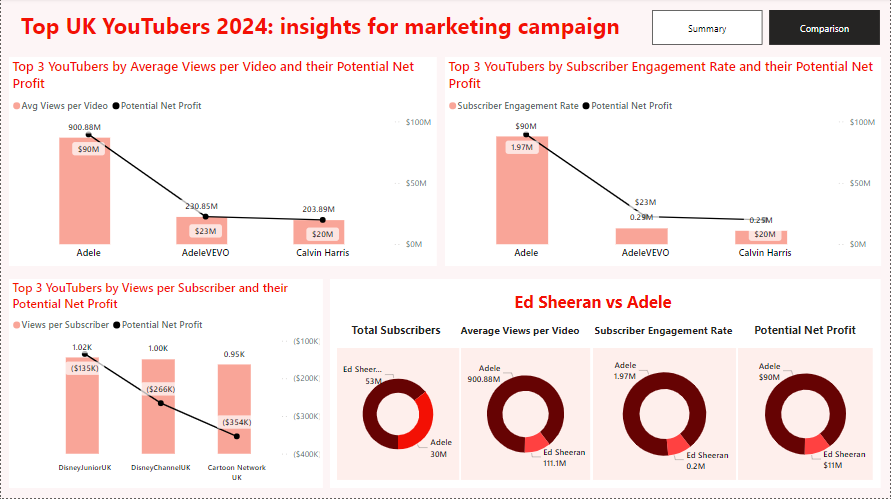

What the dashboard file says about the page in this screenshot:
{"tool":"powerbi","page":{"name":"Comparison","canvas":[1280,720],"ordinal":1},"visuals":[{"type":"textbox","box":[0,11.5,920.2,64.8],"z":0},{"type":"shape","box":[473.8,404.6,793.4,301],"z":1000},{"type":"lineClusteredColumnComboChart","title":"Top 3 YouTubers by Average Views per Video and their Potential Net Profit","fields":{"Category":["view_Top_100_UK_YouTubers.Channel_Name"],"Y2":["view_Top_100_UK_YouTubers.Potential Net Profit"],"Y":["Potential Net Profit.Avg Views per Video"]},"box":[11.5,85,616.3,301],"z":2000},{"type":"lineClusteredColumnComboChart","title":"Top 3 YouTubers by Subscriber Engagement Rate and their Potential Net Profit ","fields":{"Category":["view_Top_100_UK_YouTubers.Channel_Name"],"Y2":["view_Top_100_UK_YouTubers.Potential Net Profit"],"Y":["view_Top_100_UK_YouTubers.Subscriber Engagement Rate"]},"box":[639.4,85,627.8,301],"z":3000},{"type":"lineClusteredColumnComboChart","title":"Top 3 YouTubers by Views per Subscriber and their Potential Net Profit ","fields":{"Category":["view_Top_100_UK_YouTubers.Channel_Name"],"Y2":["view_Top_100_UK_YouTubers.Potential Net Profit"],"Y":["view_Top_100_UK_YouTubers.Views per Subscriber"]},"box":[11.5,404.6,452.2,301],"z":4000},{"type":"donutChart","title":"Average Views per Video","fields":{"Category":["view_Top_100_UK_YouTubers.Channel_Name"],"Y":["Potential Net Profit.Avg Views per Video"]},"box":[662.9,504,185.8,190.1],"z":5000},{"type":"donutChart","title":"Subscriber Engagement Rate","fields":{"Category":["view_Top_100_UK_YouTubers.Channel_Name"],"Y":["view_Top_100_UK_YouTubers.Subscriber Engagement Rate"]},"box":[852,504,205.9,190.1],"z":6000},{"type":"donutChart","title":"Total Subscribers","fields":{"Category":["view_Top_100_UK_YouTubers.Channel_Name"],"Y":["view_Top_100_UK_YouTubers.Potential Net Profit"]},"box":[1061.3,504,194.4,190.1],"z":7000},{"type":"textbox","box":[725.8,414.7,253.4,47.5],"z":8000},{"type":"donutChart","title":"Total Subscribers","fields":{"Category":["view_Top_100_UK_YouTubers.Channel_Name"],"Y":["view_Top_100_UK_YouTubers.Total_Subscribers"]},"box":[483.8,504,175.7,190.1],"z":9000},{"type":"textbox","box":[491,462.2,155.5,33.1],"z":10000},{"type":"textbox","box":[656.6,462.2,193,33.1],"z":11000},{"type":"textbox","box":[849.6,462.2,236.2,36],"z":12000},{"type":"textbox","box":[1062.7,462.2,190.1,33.1],"z":13000},{"type":"pageNavigator","box":[937.4,17.3,329.8,50.4],"z":14000}]}

Visuals, with their boxes in screenshot pixels (x1, y1, x2, y2), scaled from the page's 1280x720 canvas onto the 891x499 screenshot:
textbox: 0/8/641/53
shape: 330/280/882/489
"Top 3 YouTubers by Average Views per Video and their Potential Net Profit" lineClusteredColumnComboChart: 8/59/437/268
"Top 3 YouTubers by Subscriber Engagement Rate and their Potential Net Profit " lineClusteredColumnComboChart: 445/59/882/268
"Top 3 YouTubers by Views per Subscriber and their Potential Net Profit " lineClusteredColumnComboChart: 8/280/323/489
"Average Views per Video" donutChart: 461/349/591/481
"Subscriber Engagement Rate" donutChart: 593/349/736/481
"Total Subscribers" donutChart: 739/349/874/481
textbox: 505/287/682/320
"Total Subscribers" donutChart: 337/349/459/481
textbox: 342/320/450/343
textbox: 457/320/591/343
textbox: 591/320/756/345
textbox: 740/320/872/343
pageNavigator: 653/12/882/47
